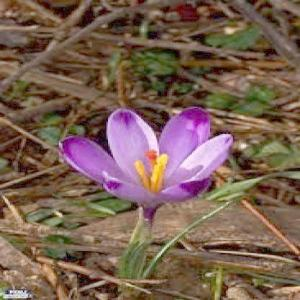Saffron: (57, 107, 232, 216)
